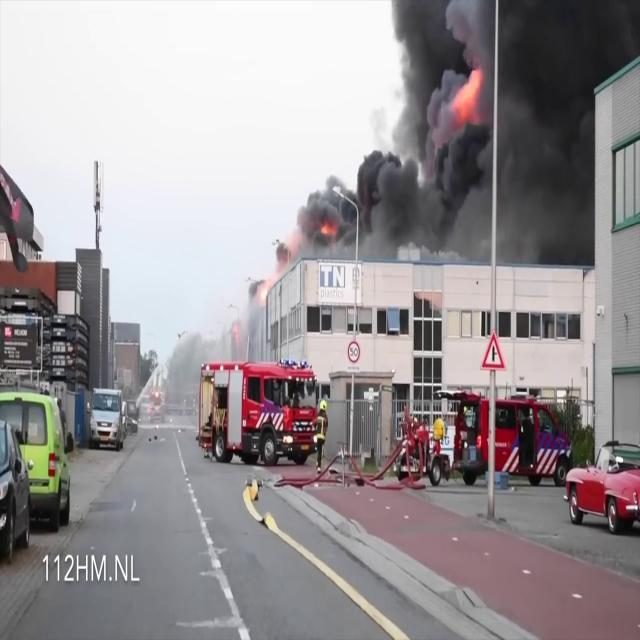Smoke: (286, 1, 622, 270)
